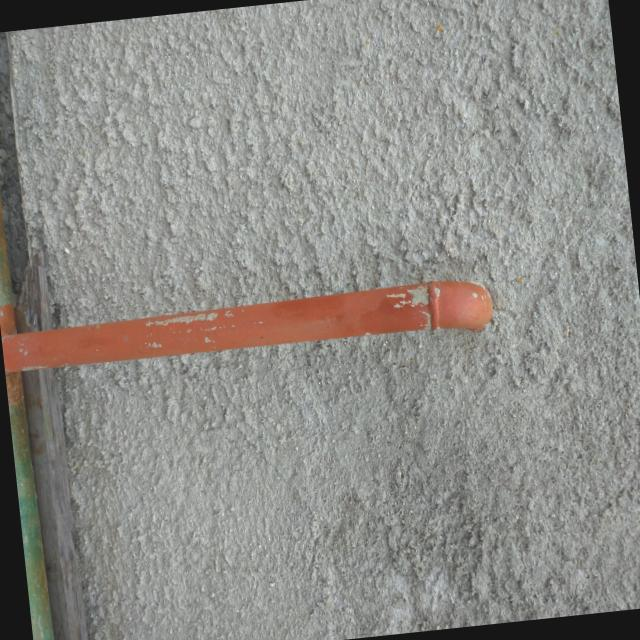gas: (0, 281, 484, 375)
